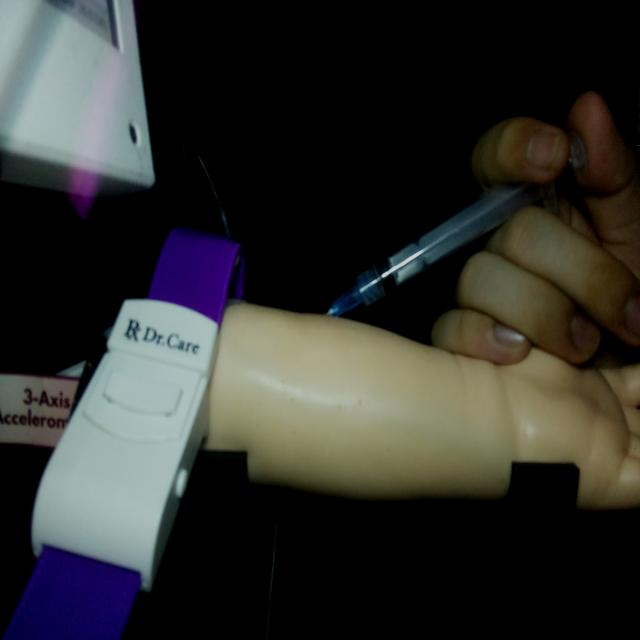26 degrees: (323, 128, 588, 320)
